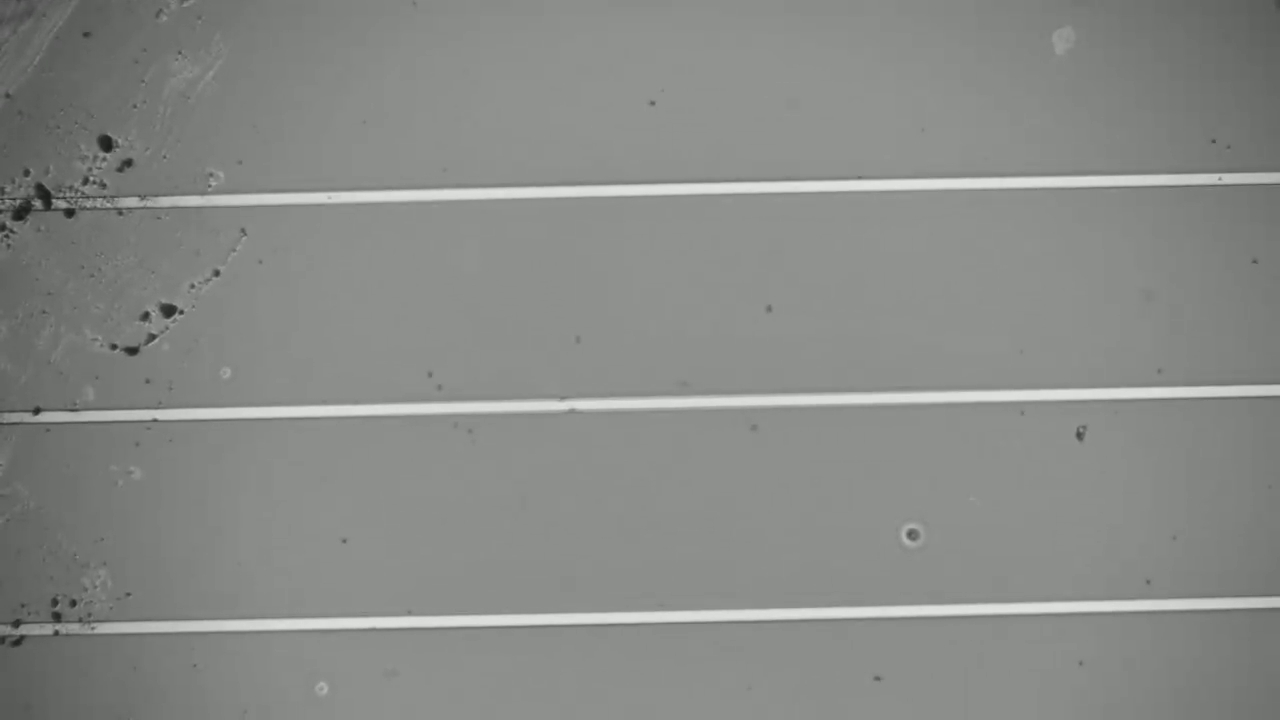stains_enbedded: (2, 192, 43, 230), (29, 173, 61, 216)
